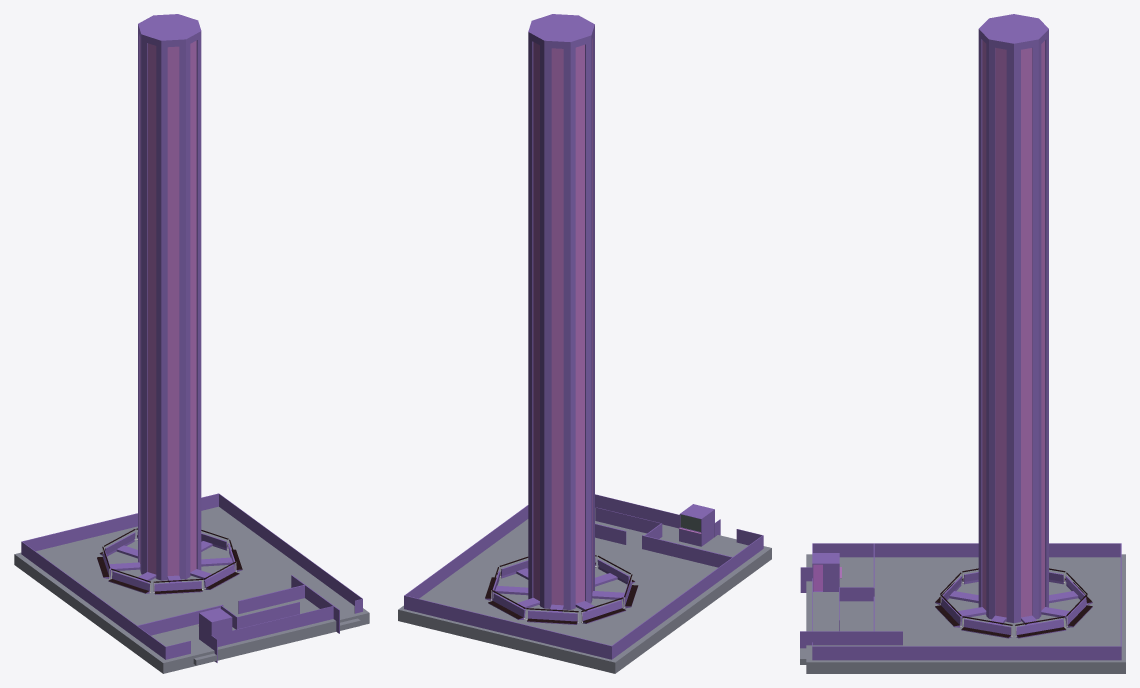
File: FreeFallTower.glb
3 views of the same model, side by side, from view 1: azimuth 30°, elevation 25°; view 2: azimuth 150°, elevation 25°; view 3: azimuth 270°, elevation 25° (orthographic). The views are drawn at different scales.
Visible parts, largest first — view 1: Cylinder, Cube, Cube.003, Cube.001, Cube.002; view 2: Cylinder, Cube, Cube.003, Cube.001, Cube.002; view 3: Cylinder, Cube, Cube.003, Cube.002, Cube.001.
Part boxes in pixels (box(x1,y1,x2,y2)): Cylinder: box(138, 14, 201, 580); Cube: box(14, 506, 369, 673); Cube.003: box(21, 493, 362, 662); Cube.001: box(97, 533, 242, 593); Cube.002: box(99, 532, 239, 594); Cylinder: box(528, 14, 594, 609); Cube: box(398, 508, 771, 673); Cube.003: box(404, 494, 763, 659); Cube.001: box(485, 560, 638, 623); Cube.002: box(488, 558, 635, 624); Cylinder: box(978, 14, 1048, 623); Cube: box(806, 554, 1125, 673); Cube.003: box(800, 543, 1121, 660); Cube.002: box(935, 576, 1092, 627); Cube.001: box(961, 572, 1066, 638).
Bounding box in the file's own units: 20 × 51 × 25.49.
